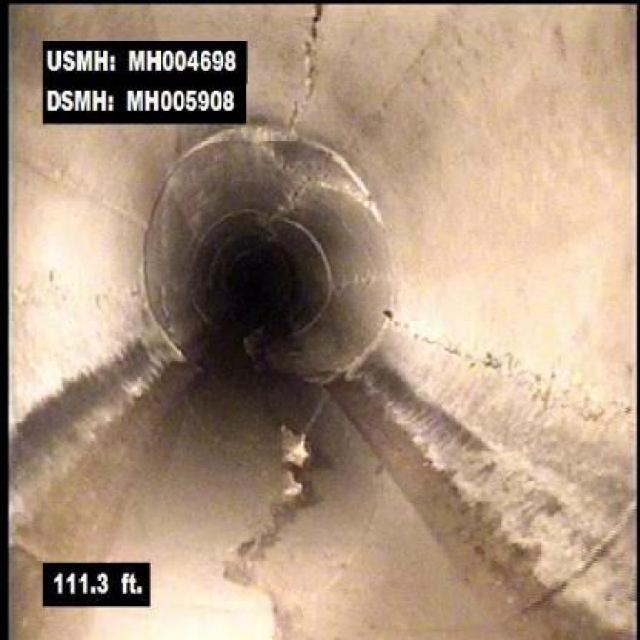Buckling: (220, 420, 322, 626)
Crack: (432, 326, 617, 434), (298, 6, 329, 102)
